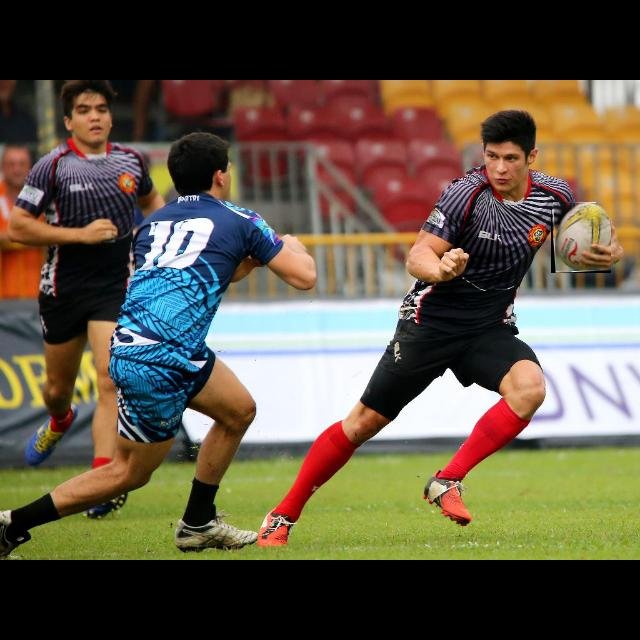Football: (551, 203, 611, 273)
